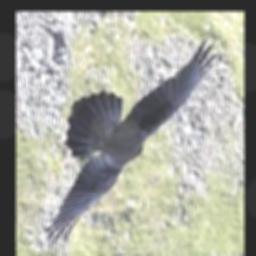Crow: (45, 38, 219, 244)
